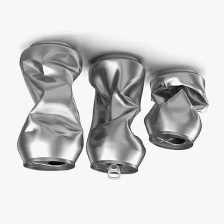can: (14, 39, 85, 172), (83, 50, 148, 178), (141, 64, 211, 151)
